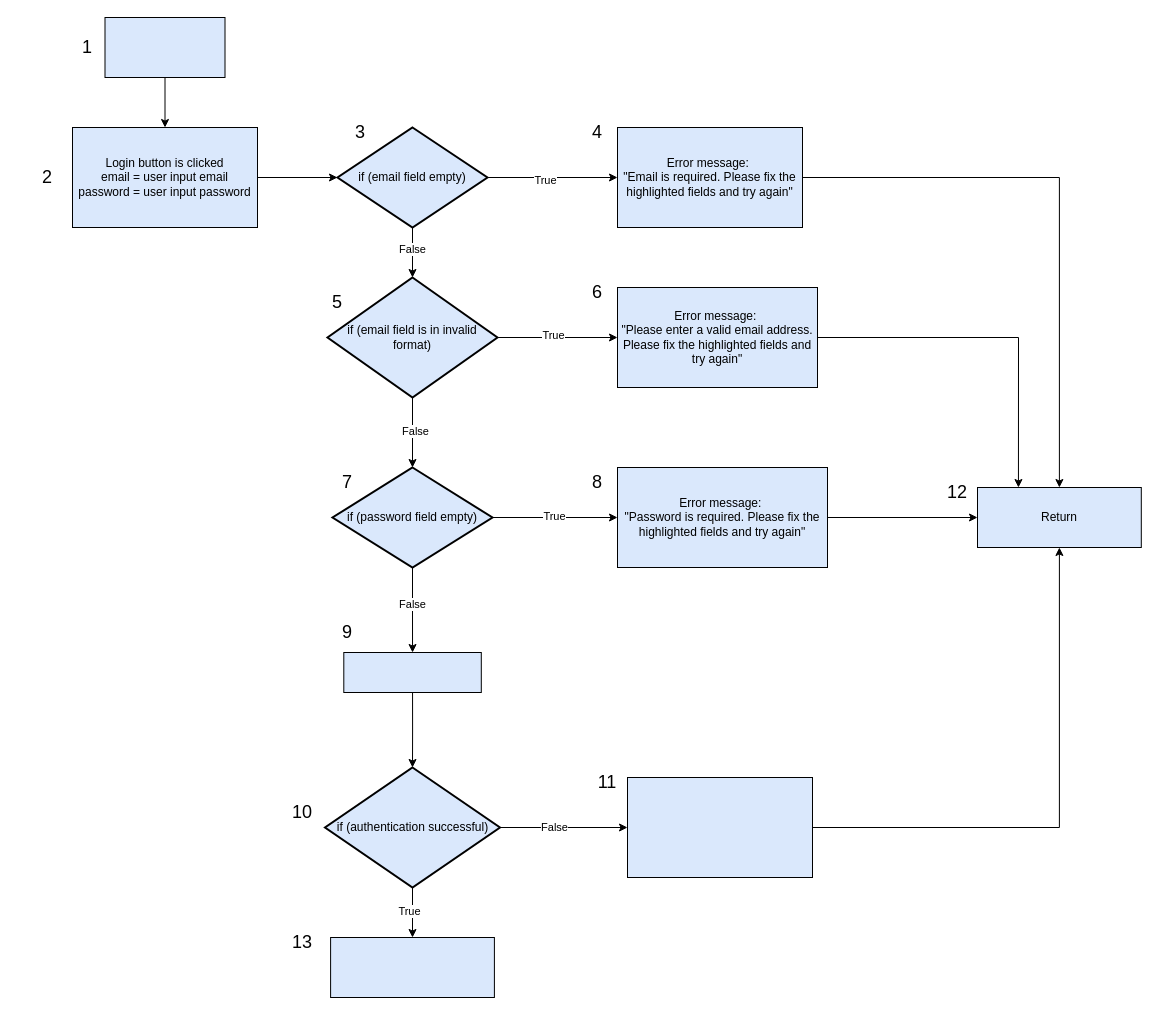
Image size: 1159x1015. Some labels were removed from this diagram. The shapes that lost their labels are listed below. From the top down, each one's centre as x and y in pixels, then its label:
At (x=164, y=47): "Login(email, password)".
At (x=412, y=672): "authentication".
At (x=719, y=827): "Error message: “Something went wrong during login. Please try again later.”".
At (x=412, y=967): "Login is successful and user is directed to home screen".
